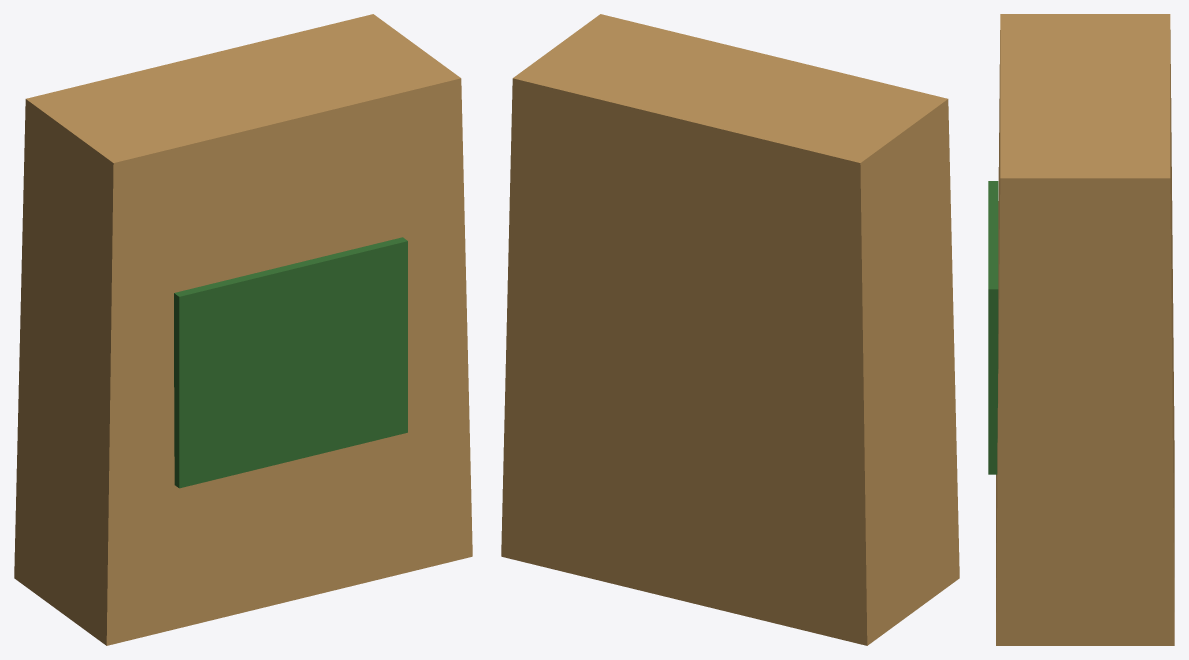
The model's file is FD_SeedBag_01.glb.
3 views of the same model, side by side, from view 1: azimuth 30°, elevation 25°; view 2: azimuth 150°, elevation 25°; view 3: azimuth 270°, elevation 25° (orthographic). The views are drawn at different scales.
Visible parts, largest first — view 1: FD_SeedBag_01; view 2: FD_SeedBag_01; view 3: FD_SeedBag_01.
Boxes of the visible parts, left/top/right/bottom form: FD_SeedBag_01: left=14, top=14, right=472, bottom=645; FD_SeedBag_01: left=501, top=14, right=959, bottom=645; FD_SeedBag_01: left=988, top=14, right=1174, bottom=645.
Size of the model in its own units: 0.16 by 0.2 by 0.073.
1 material, 1 textured.
